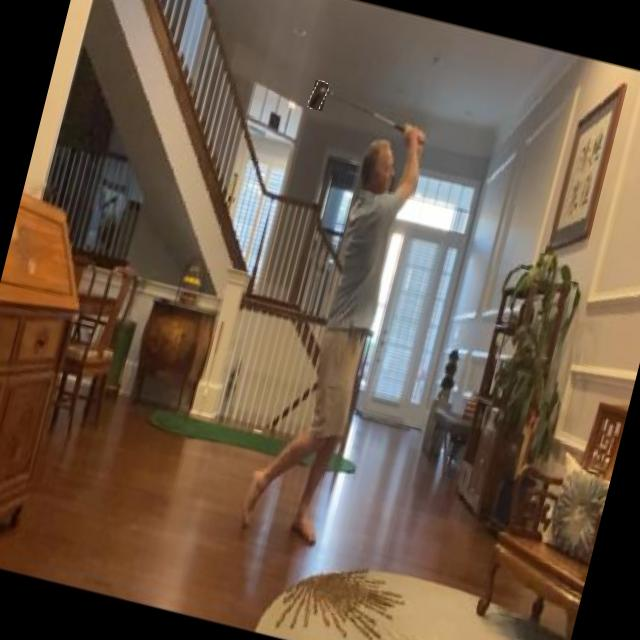club head: (308, 80, 329, 112)
